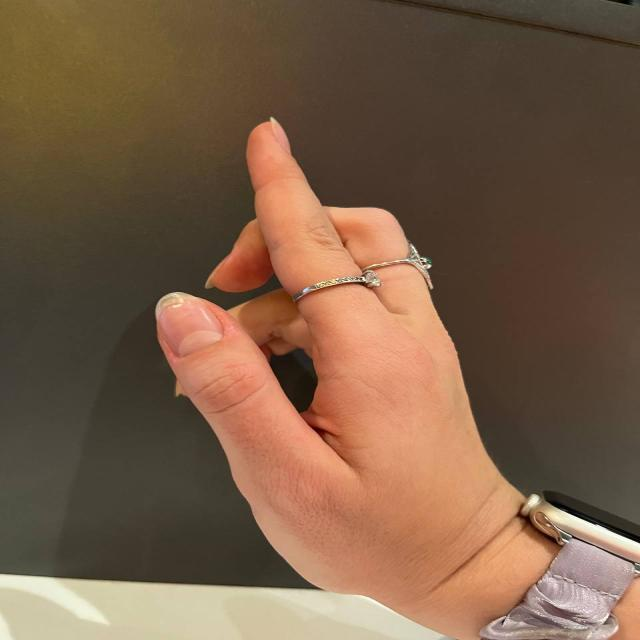b: (138, 95, 529, 565)
